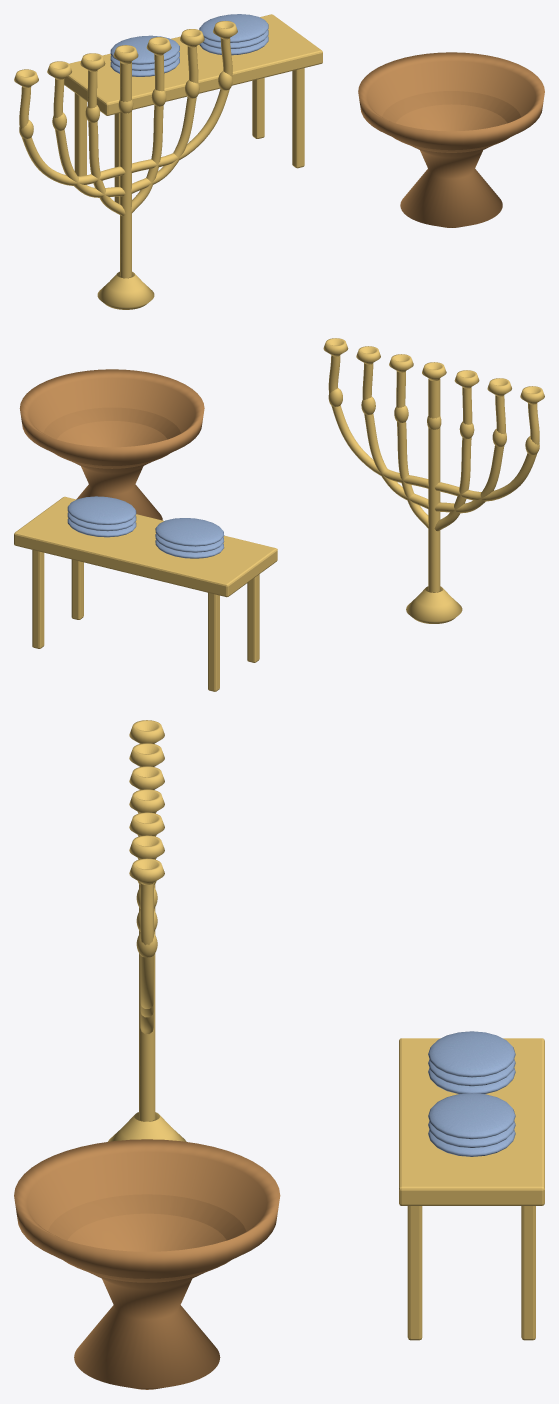
The model's file is utensilios.glb.
3 views of the same model, one above another, from view 1: azimuth 30°, elevation 25°; view 2: azimuth 150°, elevation 25°; view 3: azimuth 270°, elevation 25° (orthographic). The views are drawn at different scales.
Parts seen in each view (by area): view 1: Bacia sacerdotal, Mesa dos pães, Haste central, Braço curvo.005, Braço curvo.002, Pedestal do candelabro, Braço curvo.004, Braço curvo.001, Braço curvo.003, Braço curvo, Pé de mesa.002, Pão.005 (+8 smaller); view 2: Bacia sacerdotal, Mesa dos pães, Haste central, Pão.005, Pão.002, Braço curvo.005, Braço curvo.002, Pedestal do candelabro, Braço curvo.004, Braço curvo.001, Braço curvo.003, Braço curvo (+8 smaller); view 3: Bacia sacerdotal, Mesa dos pães, Pão.002, Pão.005, Pé de mesa.002, Pé de mesa.003, Haste central, Braço curvo.005, Pedestal do candelabro, Pão.001, Pão.004, Pão.003 (+1 smaller).
Boxes of the visible parts, x1=… form: Bacia sacerdotal: x1=358, y1=52, x2=544, y2=227; Mesa dos pães: x1=64, y1=14, x2=322, y2=115; Haste central: x1=120, y1=61, x2=131, y2=278; Braço curvo.005: x1=131, y1=38, x2=232, y2=172; Braço curvo.002: x1=19, y1=86, x2=125, y2=185; Pedestal do candelabro: x1=97, y1=271, x2=154, y2=309; Braço curvo.004: x1=131, y1=46, x2=198, y2=193; Braço curvo.001: x1=53, y1=78, x2=125, y2=197; Braço curvo.003: x1=131, y1=54, x2=164, y2=213; Braço curvo: x1=87, y1=70, x2=125, y2=215; Pé de mesa.002: x1=292, y1=68, x2=304, y2=168; Pão.005: x1=199, y1=14, x2=268, y2=42; Bacia sacerdotal: x1=19, y1=369, x2=204, y2=520; Mesa dos pães: x1=14, y1=496, x2=277, y2=597; Haste central: x1=428, y1=378, x2=440, y2=592; Pão.005: x1=67, y1=496, x2=136, y2=524; Pão.002: x1=155, y1=518, x2=224, y2=546; Braço curvo.005: x1=328, y1=355, x2=428, y2=488; Braço curvo.002: x1=435, y1=403, x2=539, y2=501; Pedestal do candelabro: x1=406, y1=586, x2=462, y2=623; Braço curvo.004: x1=362, y1=363, x2=428, y2=509; Braço curvo.001: x1=435, y1=395, x2=505, y2=513; Braço curvo.003: x1=396, y1=371, x2=428, y2=528; Braço curvo: x1=434, y1=387, x2=472, y2=531; Bacia sacerdotal: x1=14, y1=1139, x2=280, y2=1389; Mesa dos pães: x1=399, y1=1038, x2=544, y2=1205; Pão.002: x1=428, y1=1031, x2=515, y2=1077; Pão.005: x1=428, y1=1093, x2=515, y2=1139; Pé de mesa.002: x1=407, y1=1206, x2=422, y2=1340; Pé de mesa.003: x1=521, y1=1206, x2=535, y2=1340; Haste central: x1=139, y1=812, x2=155, y2=1121; Braço curvo.005: x1=140, y1=882, x2=153, y2=1008; Pedestal do candelabro: x1=108, y1=1112, x2=186, y2=1141; Pão.001: x1=428, y1=1059, x2=515, y2=1086; Pão.004: x1=428, y1=1121, x2=515, y2=1147; Pão.003: x1=428, y1=1130, x2=515, y2=1156.
Size of the model in its own units: 5.24 by 2.43 by 3.27.
3 materials, 1 textured.
